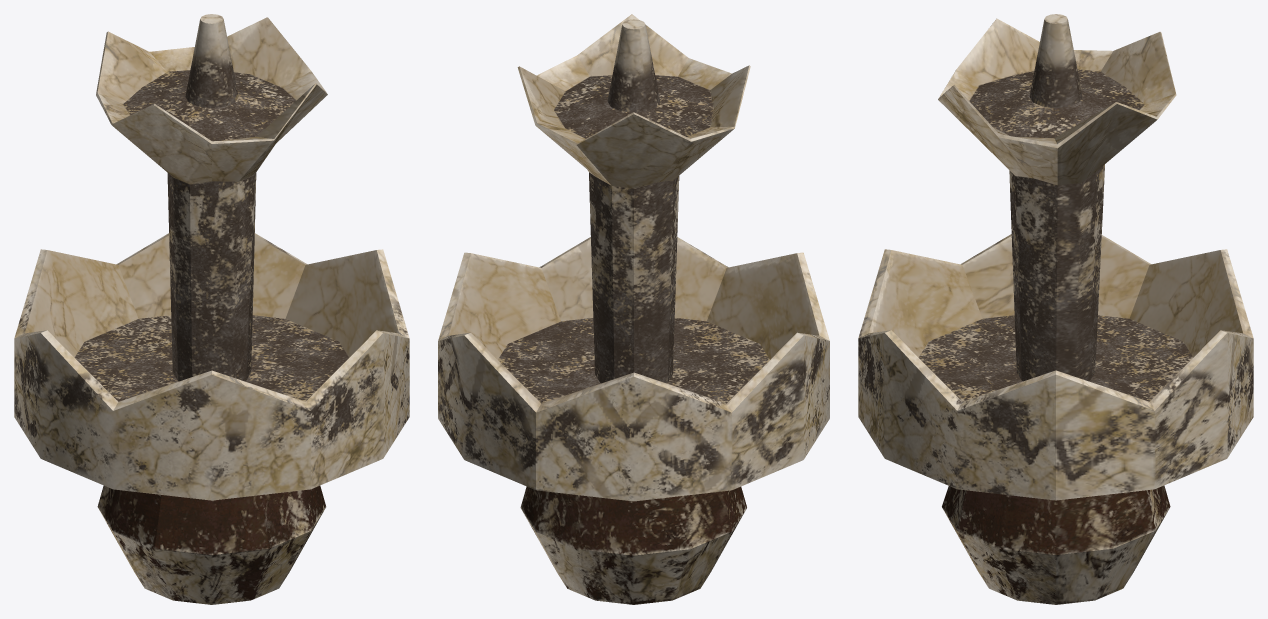
3 views of the same model, side by side, from view 1: azimuth 30°, elevation 25°; view 2: azimuth 150°, elevation 25°; view 3: azimuth 270°, elevation 25° (orthographic).
Visible parts, largest first — view 1: Fountain_low; view 2: Fountain_low; view 3: Fountain_low.
Part boxes in pixels (left/top/right/bottom): Fountain_low: left=14, top=14, right=409, bottom=604; Fountain_low: left=438, top=14, right=829, bottom=604; Fountain_low: left=858, top=14, right=1253, bottom=604.
Size of the model in its own units: 12.47 by 19.26 by 12.47.
Materials: 1 (1 with a texture image).
